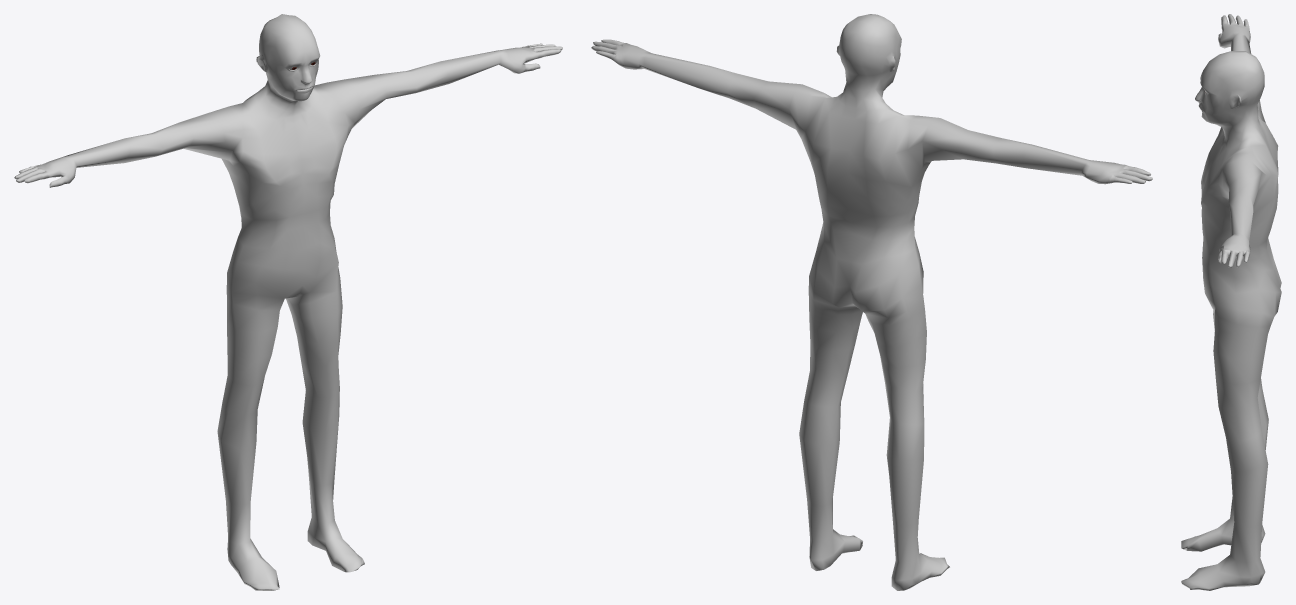
The model's file is civil_2_SemOsso.fbx.
The picture shows the model from 3 angles, left to right: view 1: azimuth 30°, elevation 25°; view 2: azimuth 150°, elevation 25°; view 3: azimuth 270°, elevation 25°; orthographic projection. The views are drawn at different scales.
Visible parts, largest first — view 1: male1591Mesh; view 2: male1591Mesh; view 3: male1591Mesh.
Boxes of the visible parts, x1=… form: male1591Mesh: x1=14, y1=14, x2=562, y2=590; male1591Mesh: x1=591, y1=14, x2=1152, y2=590; male1591Mesh: x1=1181, y1=14, x2=1281, y2=590.
Bounding box in the file's own units: 69.31 × 65.84 × 11.67.
